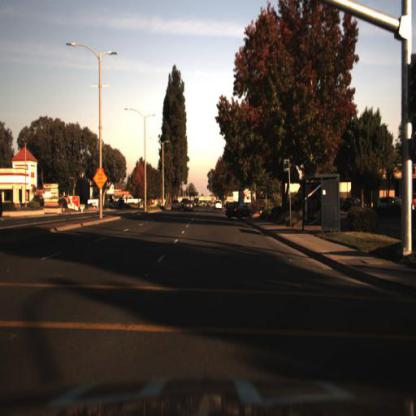car: (226, 198, 255, 220), (169, 200, 182, 216), (184, 198, 195, 216)
